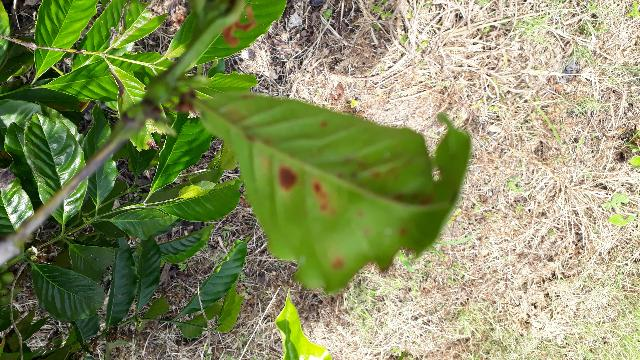red_spider_mite: (160, 61, 453, 270)
